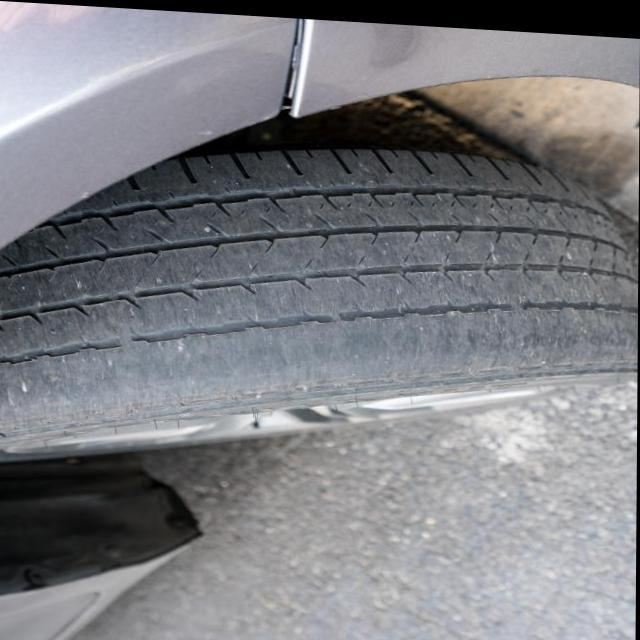Flat spots: (0, 292, 637, 403)
